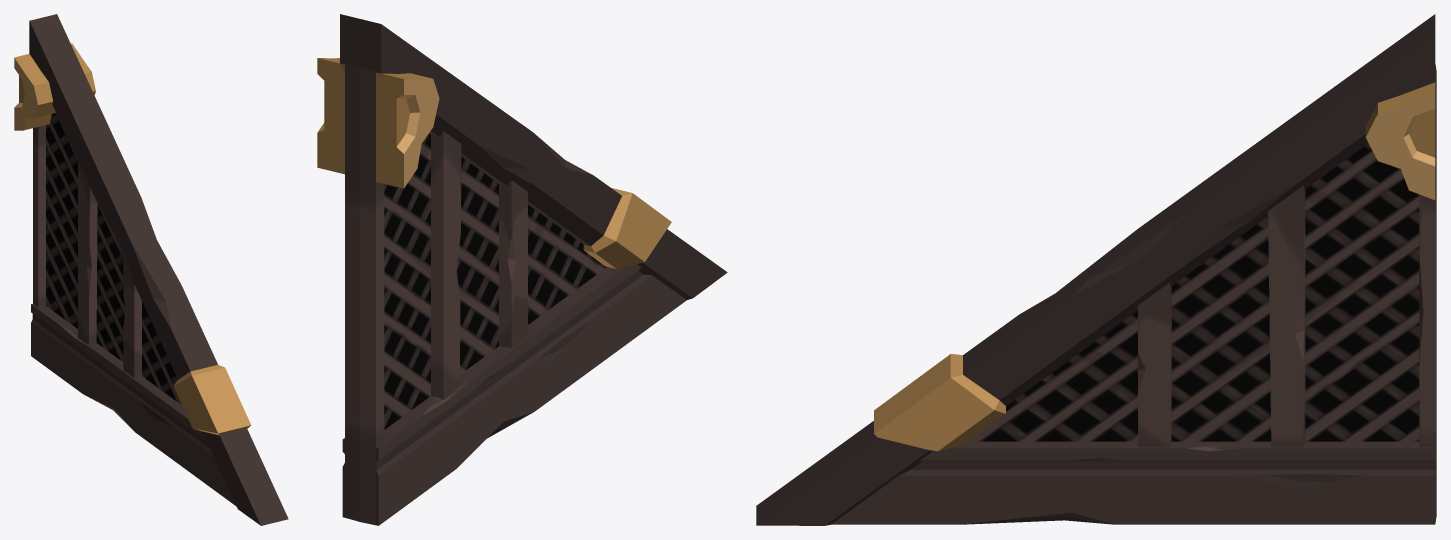
Rendered from samurai_SM_Bld_Roof_End_02.gltf.
The picture shows the model from 3 angles, left to right: view 1: azimuth 30°, elevation 25°; view 2: azimuth 150°, elevation 25°; view 3: azimuth 270°, elevation 25°; orthographic projection. The views are drawn at different scales.
Parts seen in each view (by area): view 1: SM_Bld_Roof_End_02; view 2: SM_Bld_Roof_End_02; view 3: SM_Bld_Roof_End_02.
Part boxes in pixels (left/top/right/bottom): SM_Bld_Roof_End_02: left=14, top=14, right=288, bottom=525; SM_Bld_Roof_End_02: left=317, top=14, right=727, bottom=525; SM_Bld_Roof_End_02: left=756, top=14, right=1436, bottom=525.
Size of the model in its own units: 0.3614 by 2 by 2.51.
1 material, 1 textured.
